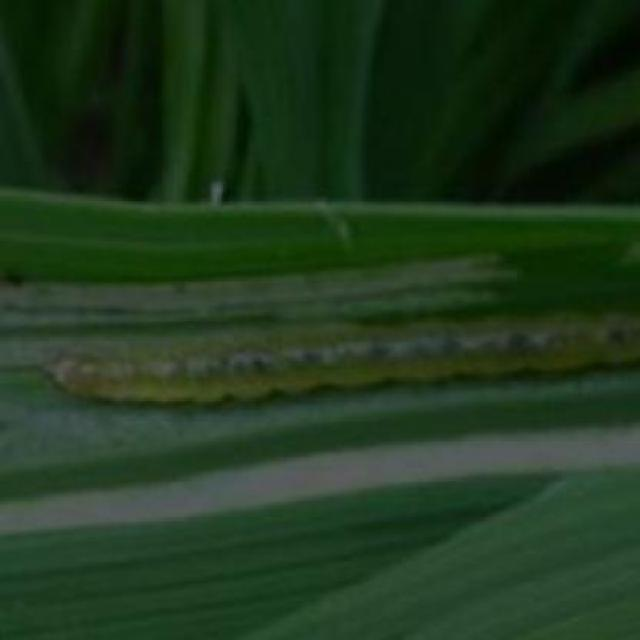leaf-folder: (41, 296, 640, 407)
